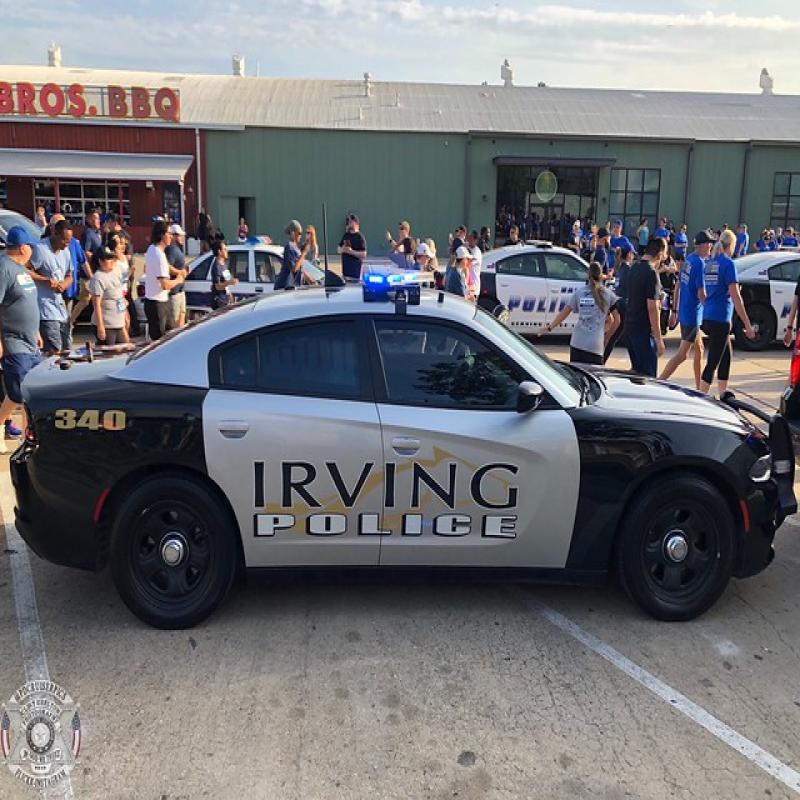AmbulanceSiren: (353, 248, 418, 312)
